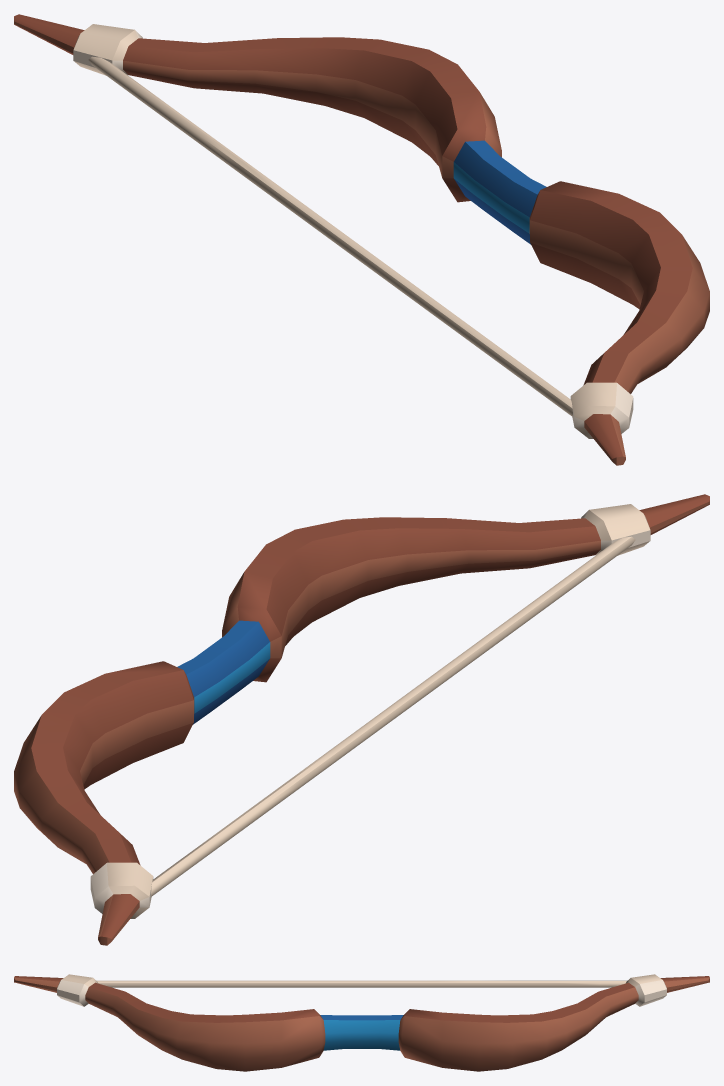
The model's file is Bow.glb.
The picture shows the model from 3 angles, top to bottom: view 1: azimuth 30°, elevation 25°; view 2: azimuth 150°, elevation 25°; view 3: azimuth 270°, elevation 25°; orthographic projection. The views are drawn at different scales.
Visible parts, largest first — view 1: bow_withString; view 2: bow_withString; view 3: bow_withString.
Boxes of the visible parts, left/top/right/bottom form: bow_withString: left=14, top=14, right=709, bottom=465; bow_withString: left=14, top=494, right=709, bottom=945; bow_withString: left=14, top=974, right=709, bottom=1071.
Size of the model in its own units: 0.4944 by 0.1556 by 1.98.
Materials: 1 (1 with a texture image).
